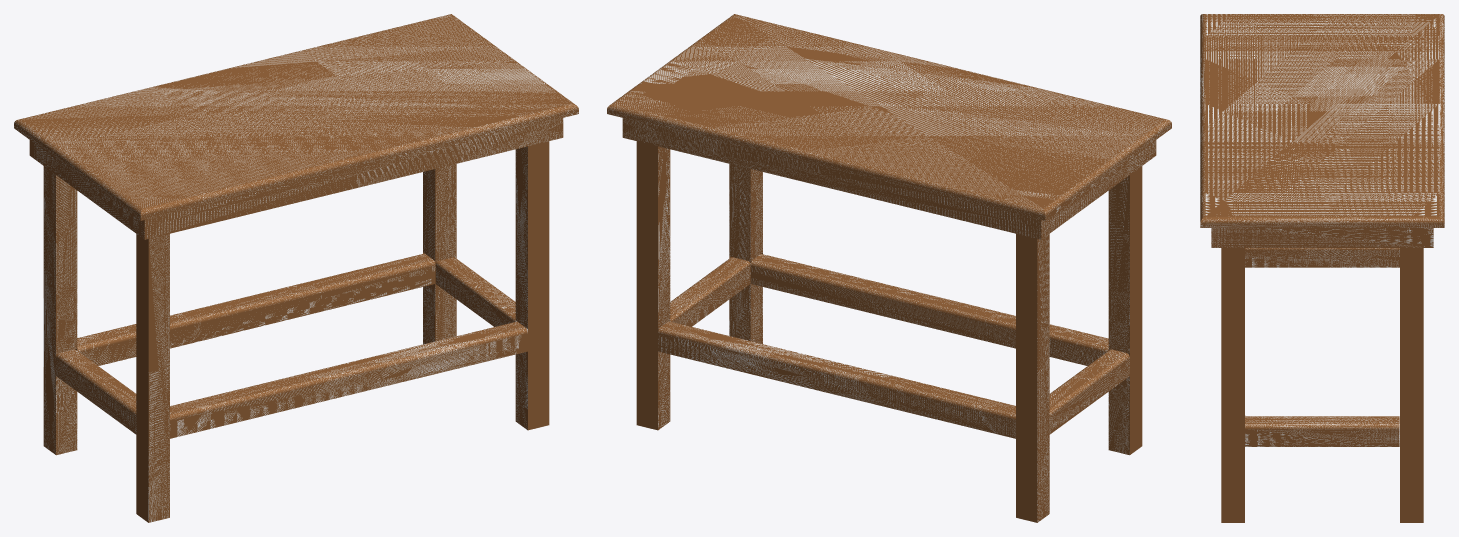
The picture shows the model from 3 angles, left to right: view 1: azimuth 30°, elevation 25°; view 2: azimuth 150°, elevation 25°; view 3: azimuth 270°, elevation 25°; orthographic projection. The views are drawn at different scales.
Visible parts, largest first — view 1: mesh1_mesh1-geometry; view 2: mesh1_mesh1-geometry; view 3: mesh1_mesh1-geometry.
Boxes of the visible parts, x1,y1,x2,y2 form: mesh1_mesh1-geometry: (14,14,578,522); mesh1_mesh1-geometry: (607,14,1171,522); mesh1_mesh1-geometry: (1200,14,1444,522).
Bounding box in the file's own units: 0.7561 × 0.5342 × 0.378.
